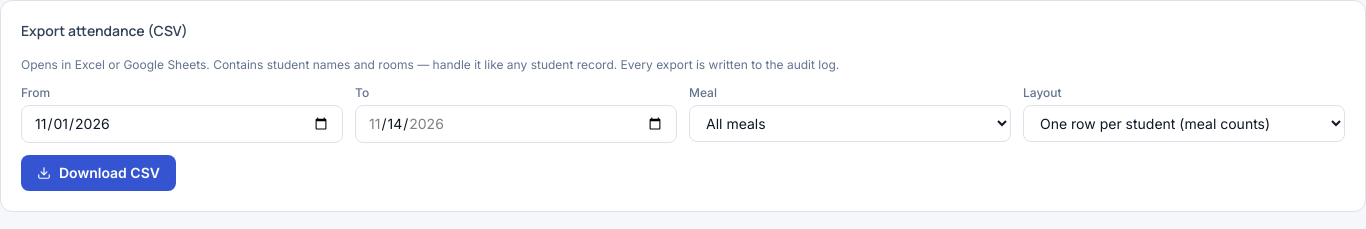
it: AttendanceExportCard › downloads with the chosen range, meal and layout, and says what was saved
Select "Lunch" in the dropdown named "Export meal": [850, 124] box [689,105,1011,142]
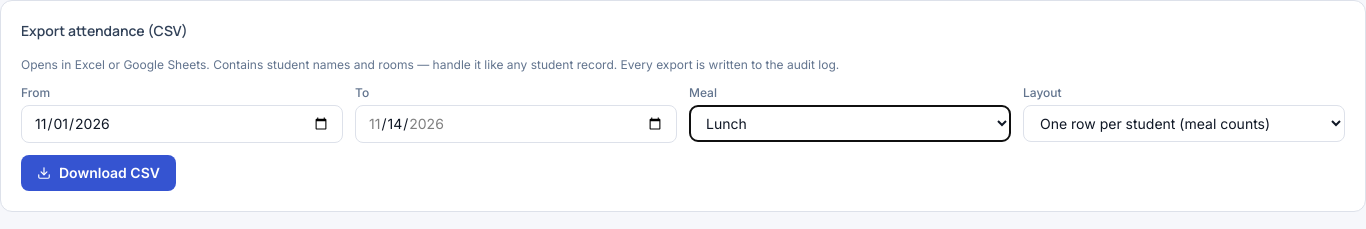
Select "One row per check-in" in the dropdown named "Export layout": [1184, 124] box [1023,105,1345,142]
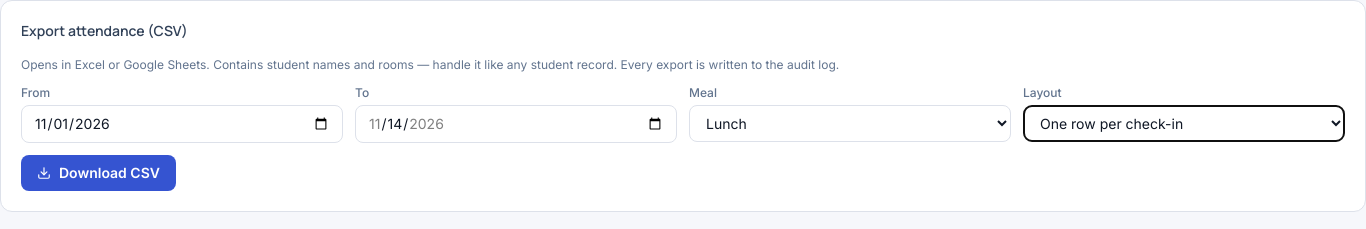
Click the button "Download CSV": [98, 173] box [21,155,176,191]
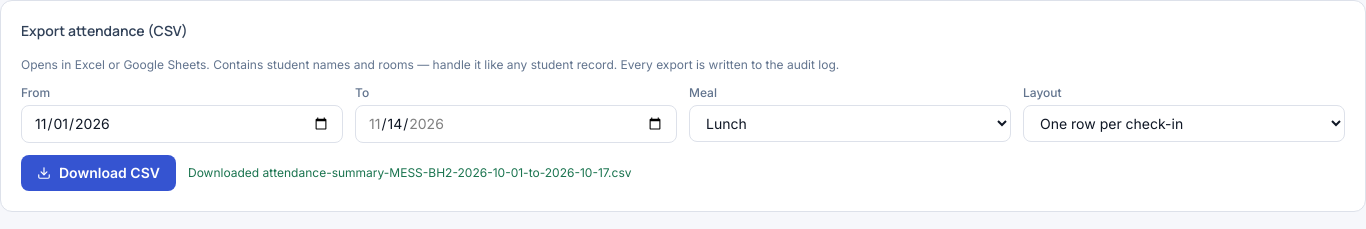
Result: the message shows "Downloaded attendance-summary" at [188,165,632,181]
